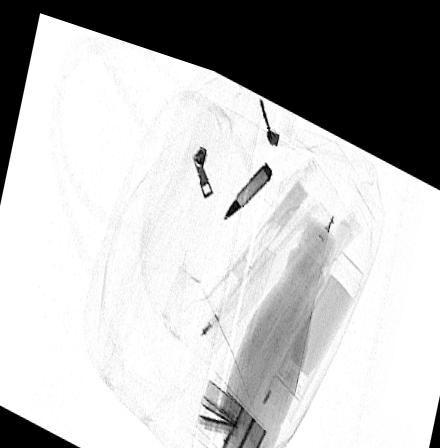Bullet: (223, 143, 273, 206)
